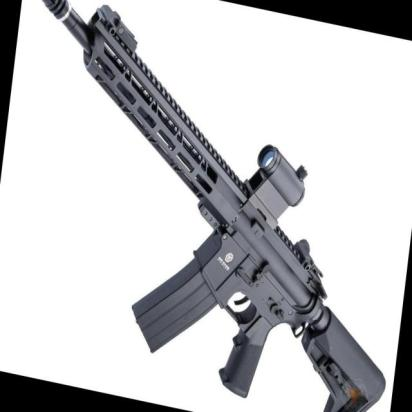Gun: (69, 27, 381, 391)
